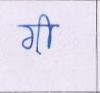i_matra: (39, 14, 55, 50)
